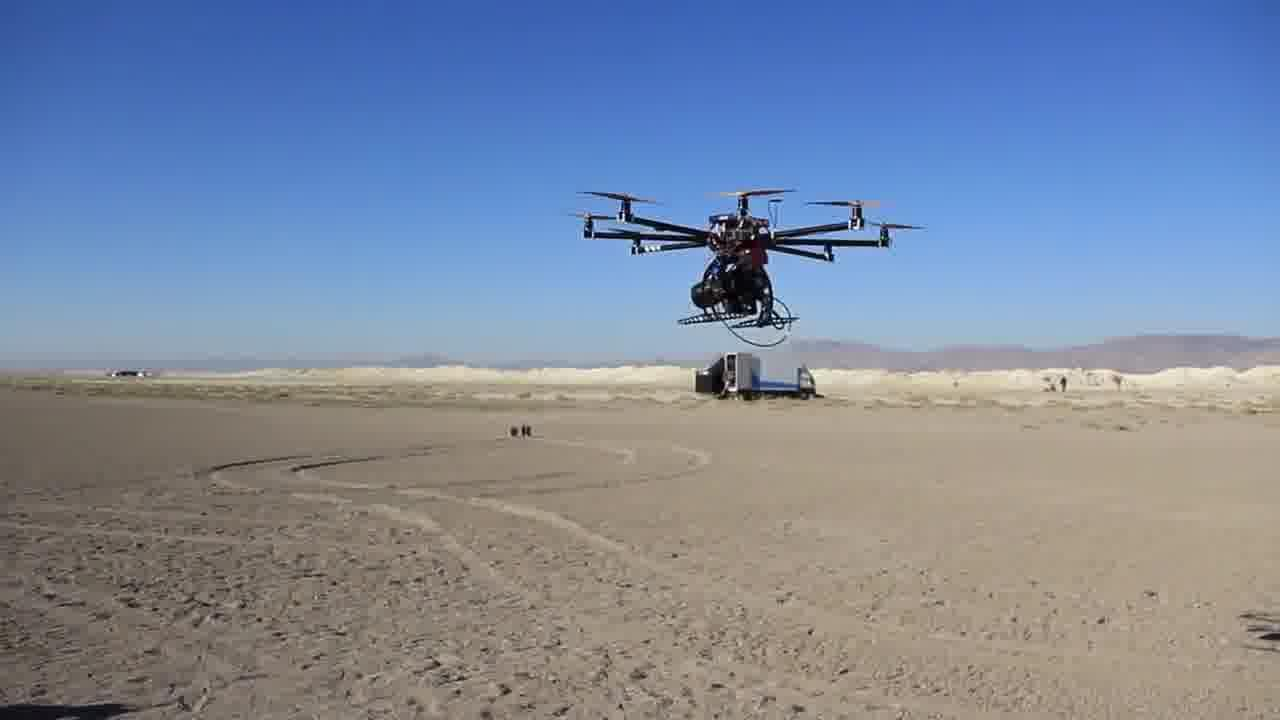drone: (572, 158, 856, 346)
